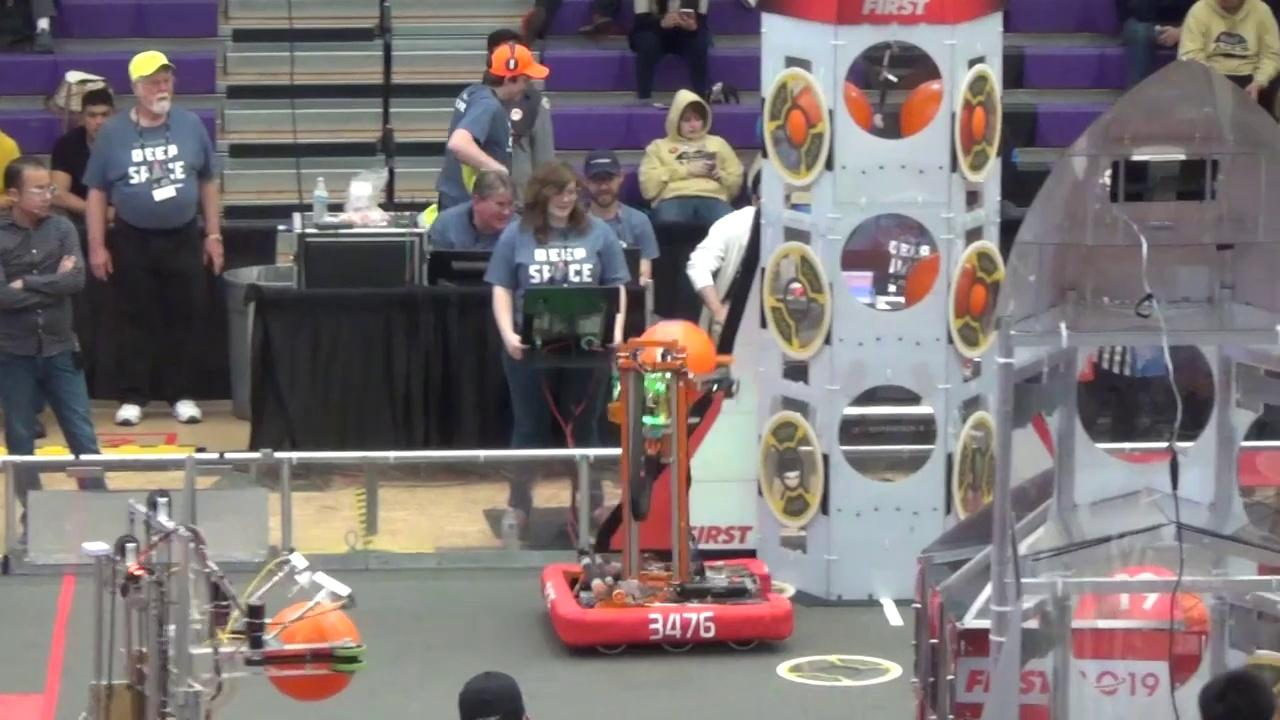robot: (536, 336, 798, 657)
